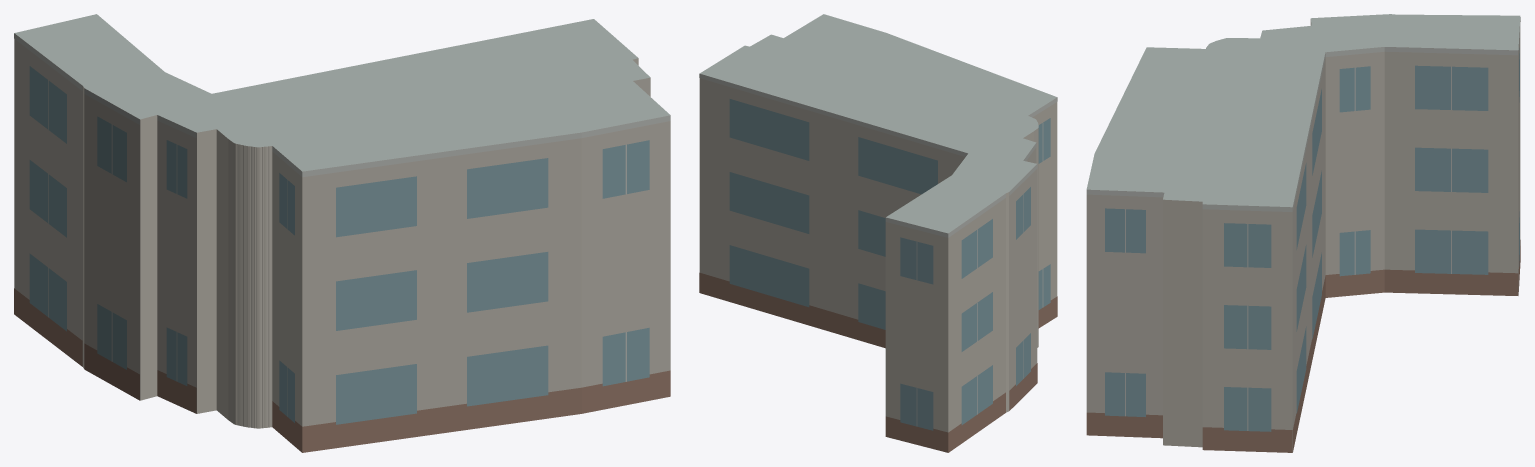
File: survey-upis-32657974.glb
3 renders of one model, left to right at view 1: azimuth 30°, elevation 25°; view 2: azimuth 150°, elevation 25°; view 3: azimuth 270°, elevation 25°, orthographic. The views are drawn at different scales.
Parts seen in each view (by area): view 1: survey-upis-32657974.tmp; view 2: survey-upis-32657974.tmp; view 3: survey-upis-32657974.tmp.
Boxes of the visible parts, x1,y1,x2,y2 form: survey-upis-32657974.tmp: (14, 14, 670, 452); survey-upis-32657974.tmp: (699, 14, 1057, 452); survey-upis-32657974.tmp: (1086, 14, 1520, 452).
Bounding box in the file's own units: 20.41 × 12.1 × 19.38.
